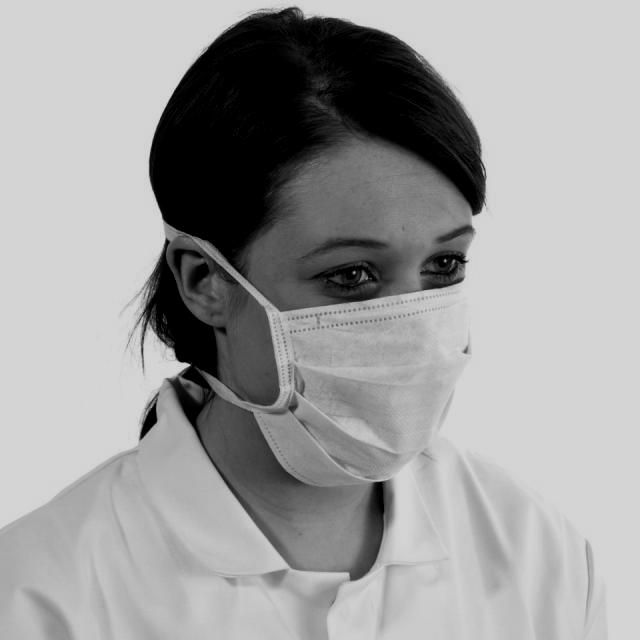fake: (257, 283, 483, 496)
real: (237, 135, 477, 501)
